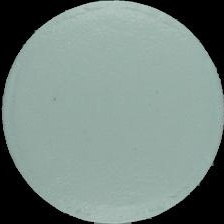51079-722: (0, 0, 224, 224)
